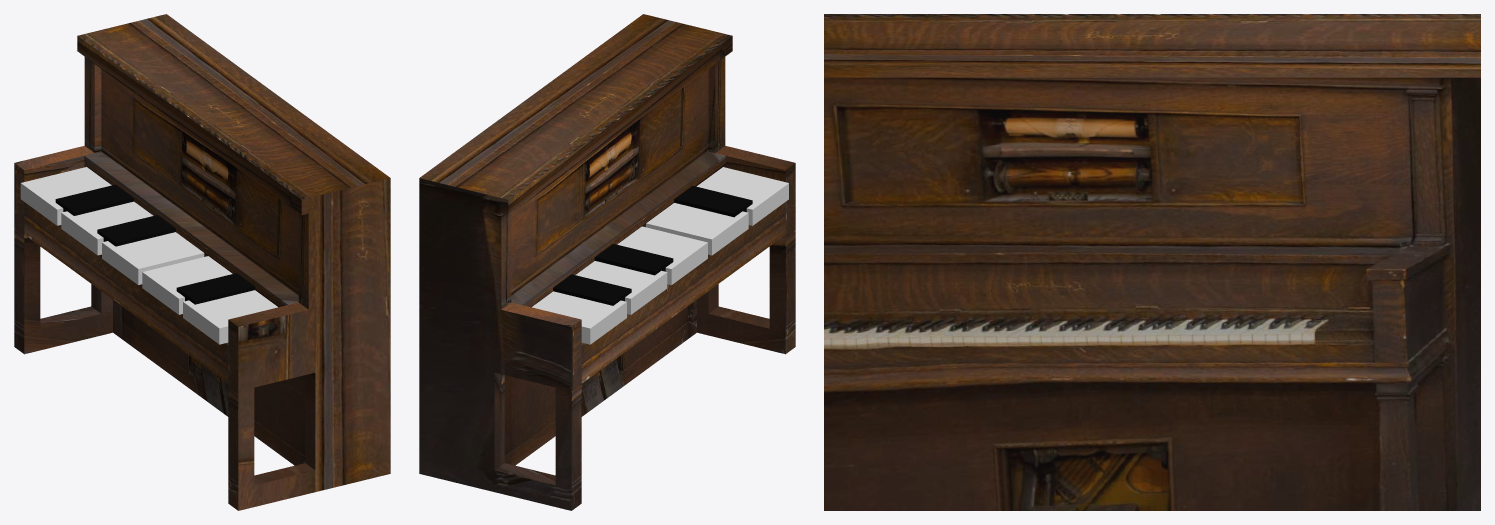
File: SM_Piano00.fbx
The picture shows the model from 3 angles, left to right: view 1: azimuth 30°, elevation 25°; view 2: azimuth 150°, elevation 25°; view 3: azimuth 270°, elevation 25°; orthographic projection. The views are drawn at different scales.
Parts seen in each view (by area): view 1: SM_Piano00, SM_Piano.004, SM_Piano, SM_Piano.007, SM_Piano.005, SM_Piano.002, SM_Piano.001, SM_Piano.003, SM_Piano.006; view 2: SM_Piano00, SM_Piano.005, SM_Piano.007, SM_Piano.004, SM_Piano, SM_Piano.002, SM_Piano.003, SM_Piano.006, SM_Piano.001; view 3: SM_Piano00.
Part boxes in pixels (left/top/right/bottom): SM_Piano00: left=14, top=14, right=390, bottom=510; SM_Piano.004: left=102, top=232, right=204, bottom=284; SM_Piano: left=20, top=167, right=111, bottom=225; SM_Piano.007: left=183, top=290, right=277, bottom=344; SM_Piano.005: left=142, top=256, right=232, bottom=314; SM_Piano.002: left=61, top=201, right=153, bottom=255; SM_Piano.001: left=55, top=184, right=134, bottom=215; SM_Piano.003: left=97, top=215, right=175, bottom=246; SM_Piano.006: left=176, top=273, right=255, bottom=304; SM_Piano00: left=419, top=14, right=795, bottom=510; SM_Piano.005: left=646, top=203, right=748, bottom=255; SM_Piano.007: left=696, top=167, right=788, bottom=225; SM_Piano.004: left=617, top=226, right=707, bottom=285; SM_Piano: left=532, top=291, right=626, bottom=344; SM_Piano.002: left=575, top=261, right=667, bottom=314; SM_Piano.003: left=594, top=244, right=673, bottom=275; SM_Piano.006: left=674, top=185, right=752, bottom=217; SM_Piano.001: left=553, top=274, right=631, bottom=305; SM_Piano00: left=824, top=14, right=1480, bottom=510.
Bounding box in the file's own units: 102 × 182 × 250.
